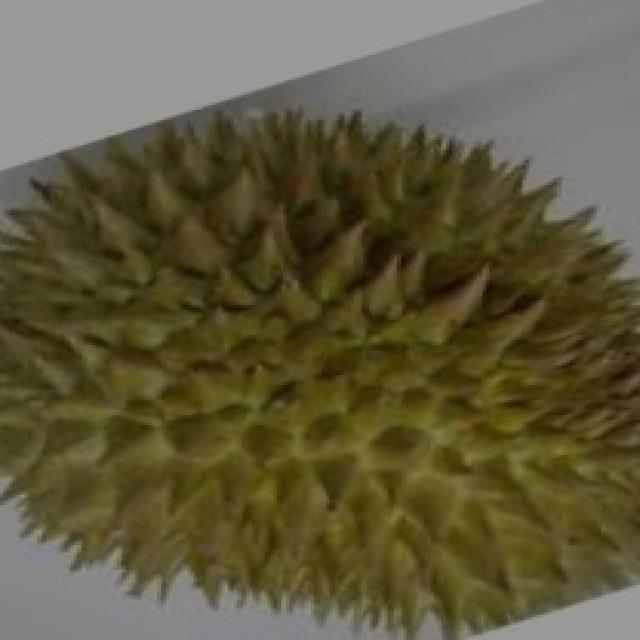fruit: (237, 275, 637, 640), (0, 275, 375, 640)
